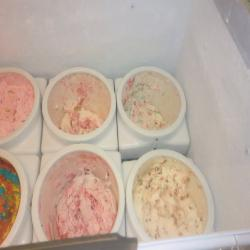icecream: (121, 149, 223, 241), (27, 153, 127, 242), (41, 67, 120, 147), (114, 64, 191, 139), (1, 70, 38, 143)
